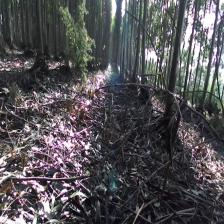trunk: (162, 2, 187, 125), (200, 24, 217, 110), (140, 12, 147, 93), (35, 1, 44, 64)
